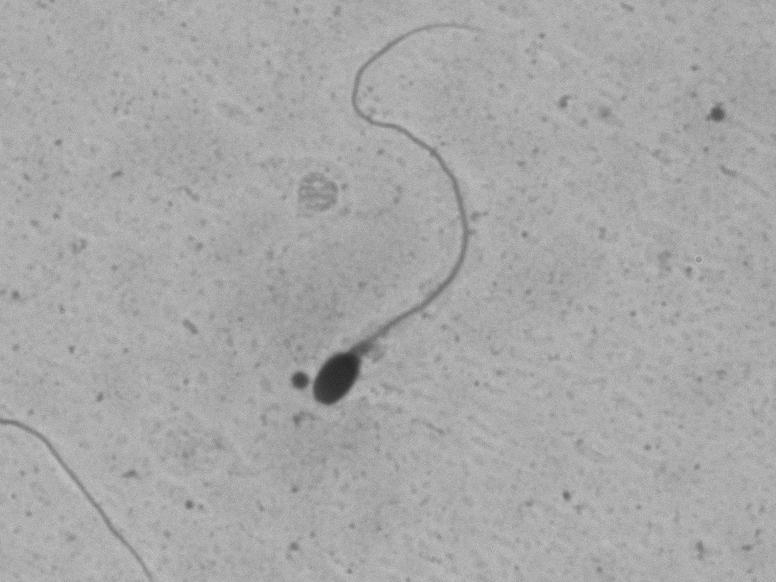Normal: (299, 10, 523, 434)
